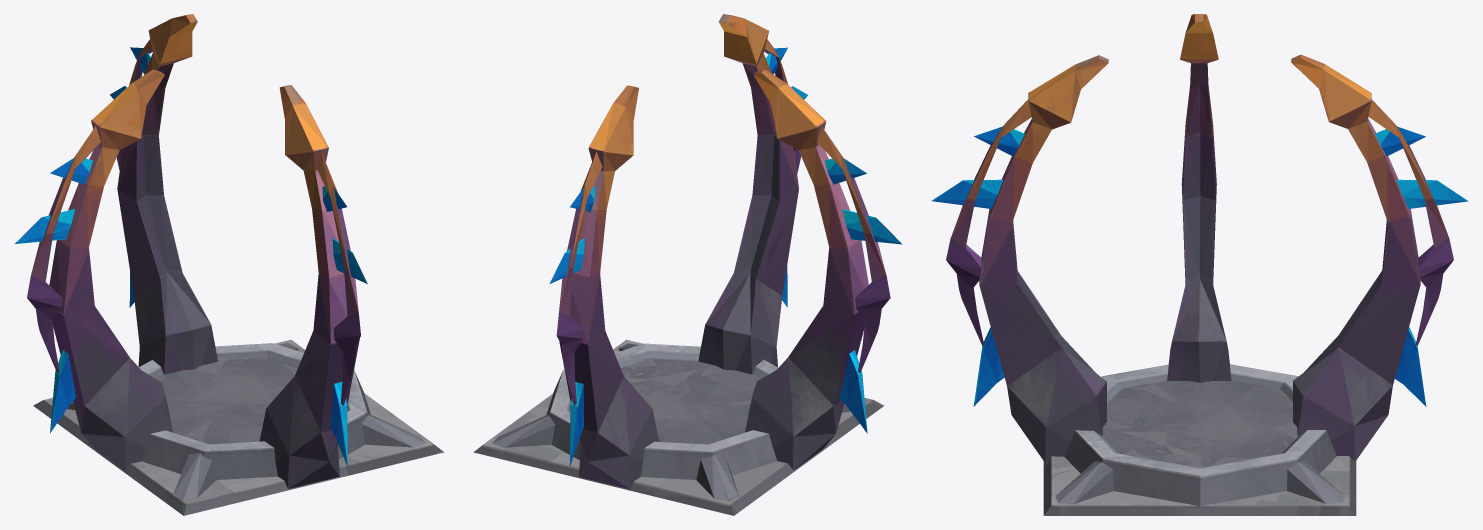
The model's file is tile_teleport.fbx.
3 views of the same model, side by side, from view 1: azimuth 30°, elevation 25°; view 2: azimuth 150°, elevation 25°; view 3: azimuth 270°, elevation 25° (orthographic). The views are drawn at different scales.
Parts seen in each view (by area): view 1: teleport_prong2, teleport_prong3, teleport_base, teleport_prong1, tile_teleport; view 2: teleport_prong2, teleport_prong1, teleport_base, teleport_prong3, tile_teleport; view 3: teleport_base, teleport_prong3, teleport_prong1, teleport_prong2, tile_teleport.
Boxes of the visible parts, x1,y1,x2,y2 form: teleport_prong2: [15, 69, 172, 470]; teleport_prong3: [259, 85, 367, 488]; teleport_base: [52, 343, 425, 500]; teleport_prong1: [110, 14, 218, 374]; tile_teleport: [33, 339, 443, 515]; teleport_prong2: [745, 69, 902, 469]; teleport_prong1: [549, 85, 658, 489]; teleport_base: [492, 343, 866, 500]; teleport_prong3: [698, 14, 807, 374]; tile_teleport: [473, 339, 883, 515]; teleport_base: [1055, 364, 1344, 508]; teleport_prong3: [932, 55, 1108, 461]; teleport_prong1: [1291, 54, 1467, 461]; teleport_prong2: [1167, 14, 1231, 382]; tile_teleport: [1043, 456, 1356, 515].
Size of the model in its own units: 0.0272 by 0.0277 by 0.0344.
